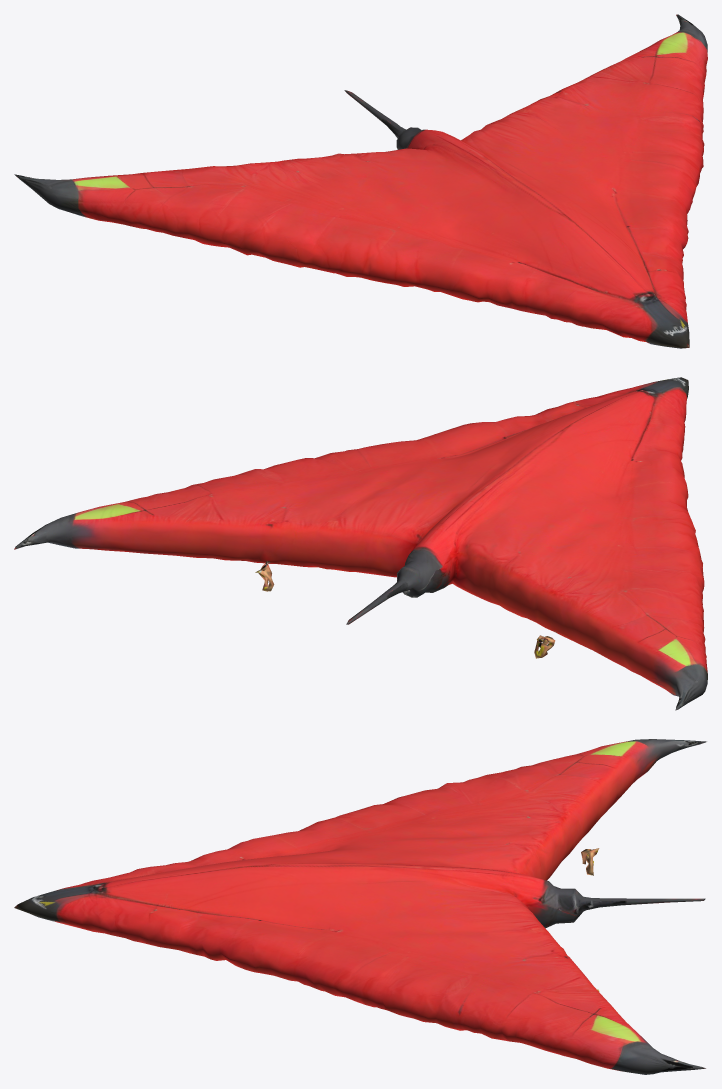
Rendered from Meshy_Model_20250605_013021.glb.
The picture shows the model from 3 angles, top to bottom: view 1: azimuth 30°, elevation 25°; view 2: azimuth 150°, elevation 25°; view 3: azimuth 270°, elevation 25°; orthographic projection.
Size of the model in its own units: 2 by 0.234 by 1.8.
Materials: 1 (1 with a texture image).
